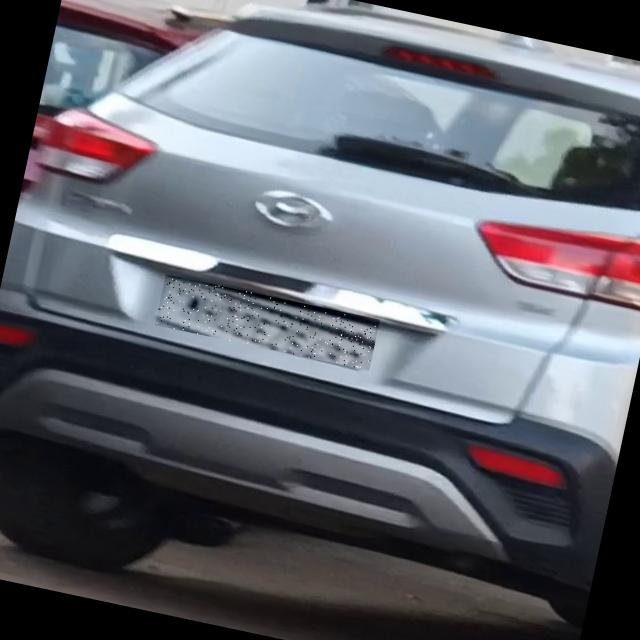Plate: (156, 275, 381, 371)
